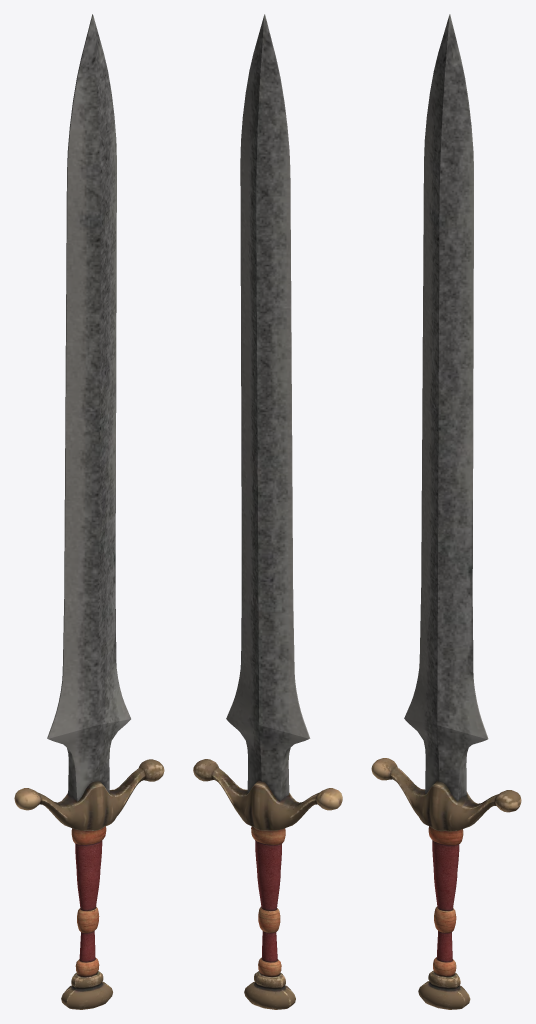
File: black_longsword.glb
3 views of the same model, side by side, from view 1: azimuth 30°, elevation 25°; view 2: azimuth 150°, elevation 25°; view 3: azimuth 330°, elevation 25° (orthographic).
Parts seen in each view (by area): view 1: black_longsword; view 2: black_longsword; view 3: black_longsword.
Part boxes in pixels (bbox=[...]): black_longsword: bbox=[14, 14, 164, 1009]; black_longsword: bbox=[193, 14, 342, 1009]; black_longsword: bbox=[371, 14, 521, 1009].
Bounding box in the file's own units: 0.1994 × 1.3 × 0.0571.
1 material, 1 textured.
